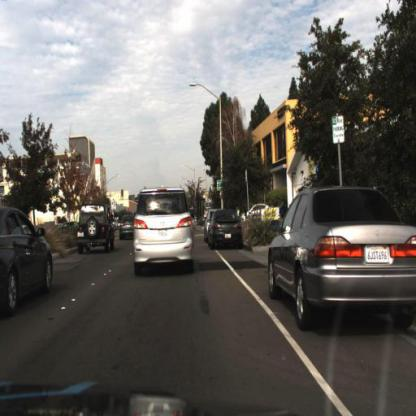car: (261, 178, 416, 337), (128, 178, 203, 290), (1, 195, 57, 331), (1, 199, 58, 315), (74, 197, 120, 261), (75, 201, 117, 256), (206, 206, 247, 255), (116, 205, 141, 247), (243, 204, 281, 227)
